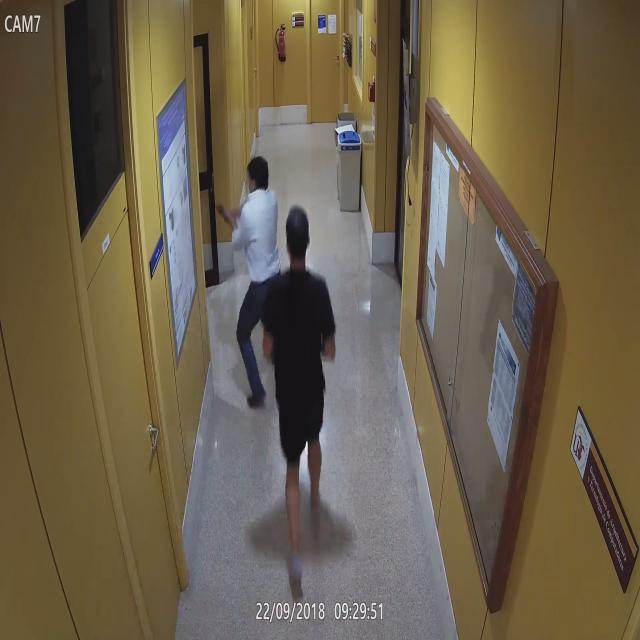Gun: (214, 202, 234, 226)
